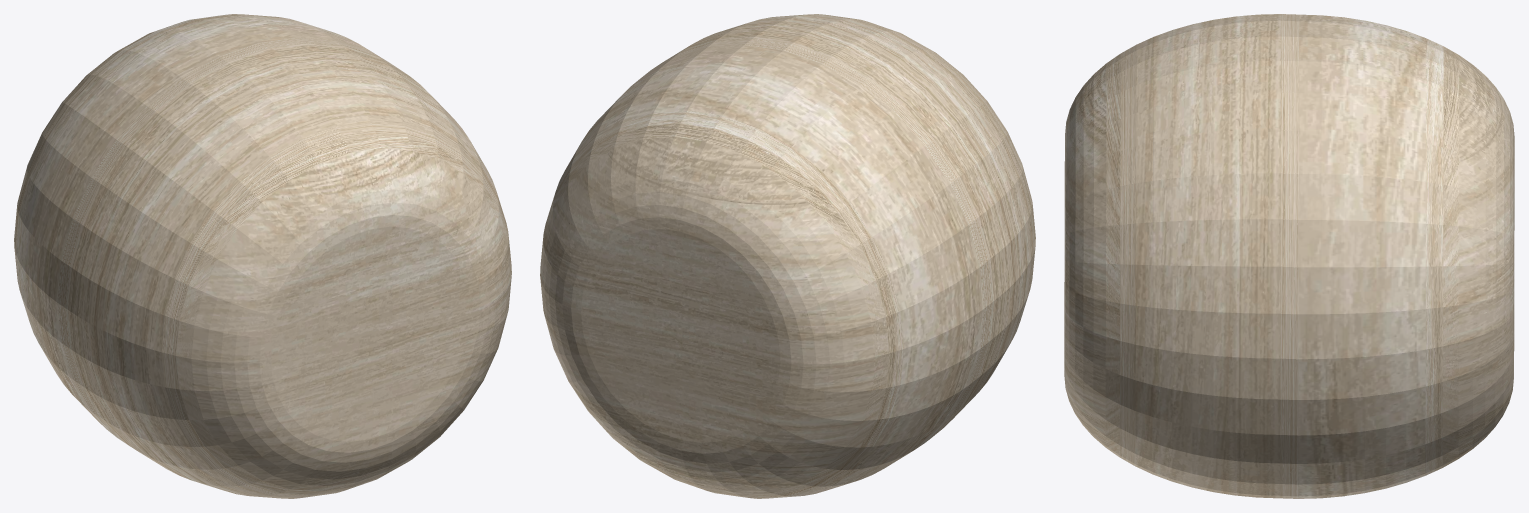
File: modeling06.glb
3 views of the same model, side by side, from view 1: azimuth 30°, elevation 25°; view 2: azimuth 150°, elevation 25°; view 3: azimuth 270°, elevation 25° (orthographic). The views are drawn at different scales.
Parts seen in each view (by area): view 1: 실린더.002; view 2: 실린더.002; view 3: 실린더.002.
Boxes of the visible parts, x1,y1,x2,y2 form: 실린더.002: (14,14,511,498); 실린더.002: (540,14,1035,498); 실린더.002: (1064,14,1514,498).
Size of the model in its own units: 0.6582 by 0.6591 by 0.6112.
Materials: 1 (1 with a texture image).
